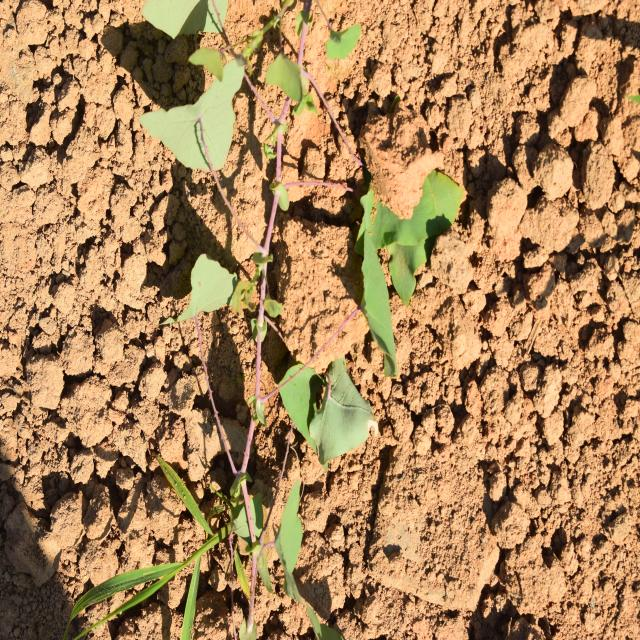Asiatic_Smartweed: (301, 138, 466, 463), (138, 3, 270, 390)
